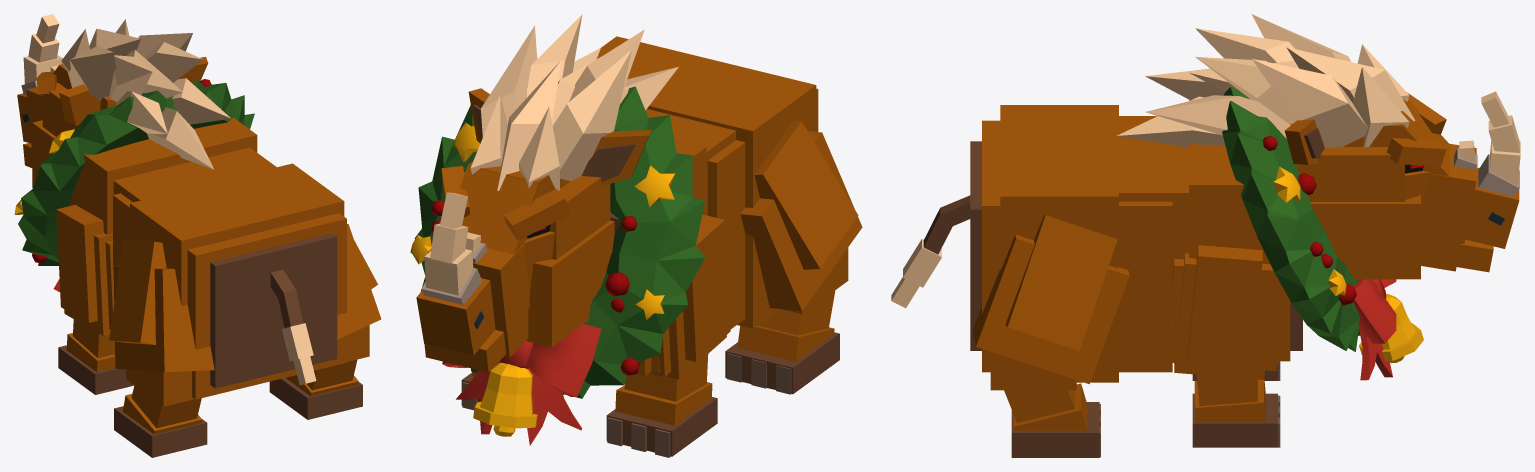
The model's file is woolly_rhinoceros.obj.
3 views of the same model, side by side, from view 1: azimuth 30°, elevation 25°; view 2: azimuth 150°, elevation 25°; view 3: azimuth 270°, elevation 25° (orthographic). The views are drawn at different scales.
Visible parts, largest first — view 1: torso, head, leg_L, arm_L, leg_R, ear_L, tail03, tail02, tail01, tail04; view 2: torso, head, leg_L, arm_L, ear_L, mouth, ear_R; view 3: torso, head, leg_R, arm_R, mouth, ear_R, tail03, tail01, tail02.
Part boxes in pixels (x1,y1,x2,y2): torso: [14, 79, 346, 399]; head: [17, 14, 230, 187]; leg_L: [109, 239, 214, 457]; arm_L: [56, 204, 134, 394]; leg_R: [269, 224, 381, 419]; ear_L: [59, 84, 100, 125]; tail03: [281, 323, 313, 361]; tail02: [278, 290, 303, 327]; tail01: [270, 269, 295, 302]; tail04: [293, 356, 316, 385]; torso: [410, 36, 818, 445]; head: [416, 14, 678, 355]; leg_L: [725, 121, 862, 394]; arm_L: [606, 214, 730, 457]; ear_L: [581, 130, 651, 185]; mouth: [424, 309, 528, 372]; ear_R: [468, 88, 489, 143]; torso: [970, 87, 1423, 382]; head: [1117, 14, 1520, 279]; leg_R: [972, 215, 1129, 457]; arm_R: [1165, 245, 1284, 447]; mouth: [1421, 237, 1493, 272]; ear_R: [1285, 119, 1324, 164]; tail03: [903, 239, 941, 287]; tail01: [940, 195, 970, 228]; tail02: [923, 208, 952, 254].
Size of the model in its own units: 8.5 by 10.76 by 16.88.
